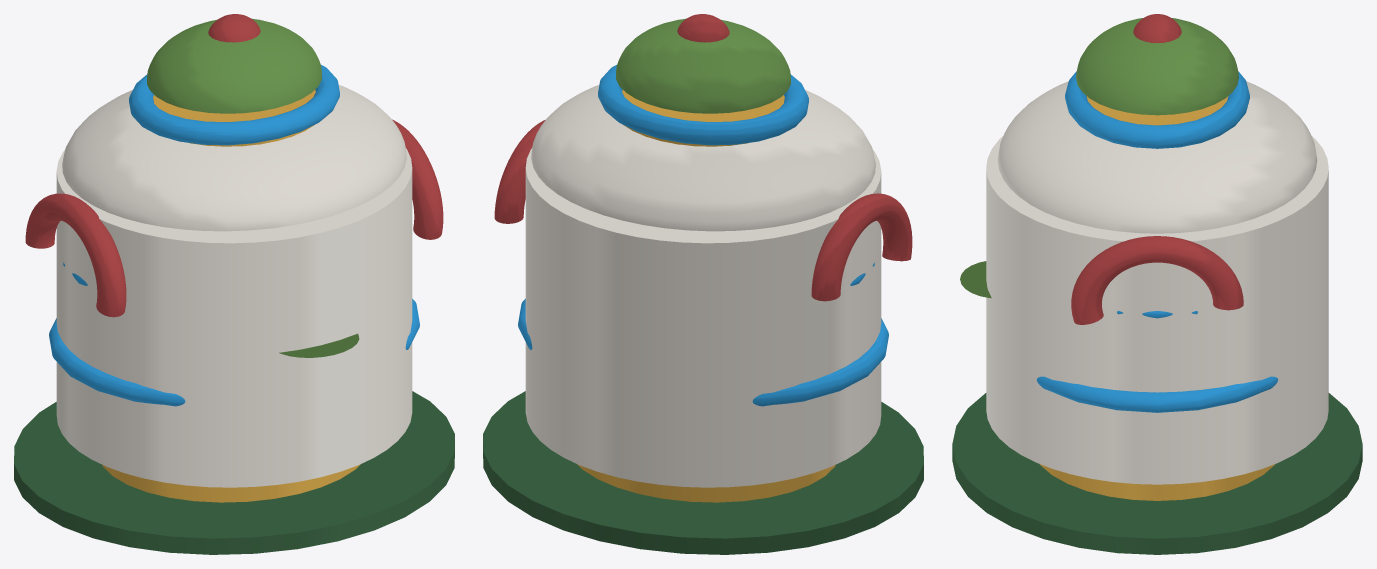
File: 1190_唐图鉴_鎏金舞马衔杯纹银壶.glb
The picture shows the model from 3 angles, left to right: view 1: azimuth 30°, elevation 25°; view 2: azimuth 150°, elevation 25°; view 3: azimuth 270°, elevation 25°; orthographic projection.
Parts seen in each view (by area): view 1: card_1190; view 2: card_1190; view 3: card_1190.
Part boxes in pixels (left/top/right/bottom): card_1190: left=14, top=14, right=454, bottom=554; card_1190: left=483, top=14, right=923, bottom=554; card_1190: left=952, top=14, right=1362, bottom=554.
Bounding box in the file's own units: 0.9123 × 1 × 0.8383.
